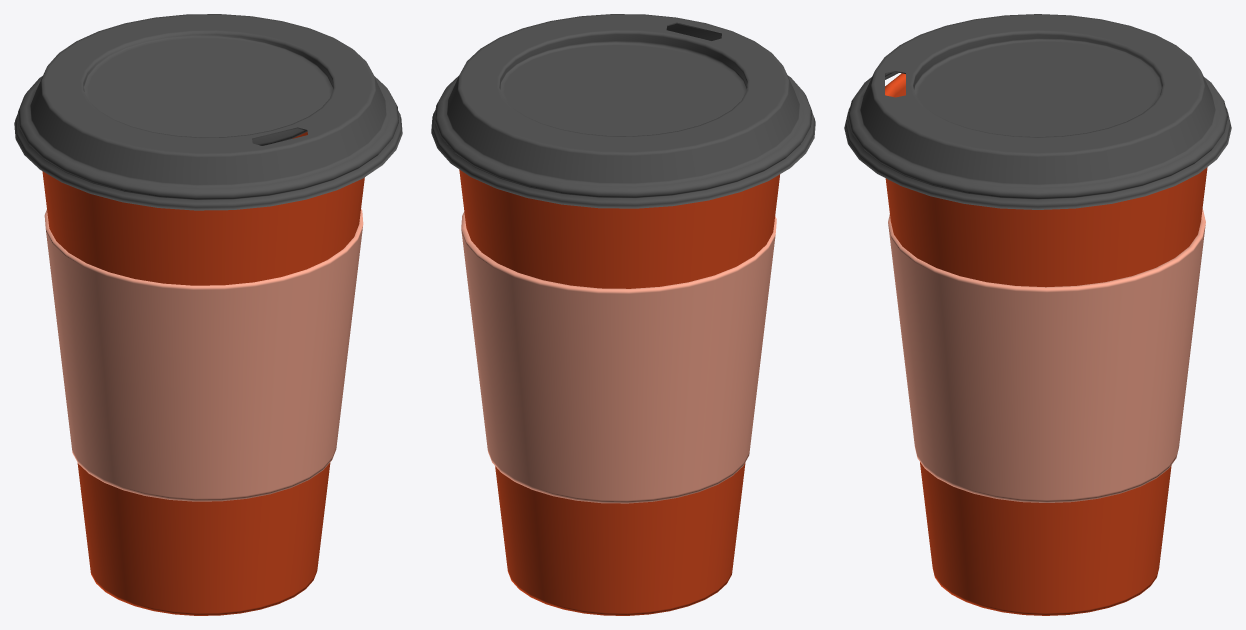
File: Bardak1.fbx
The picture shows the model from 3 angles, left to right: view 1: azimuth 30°, elevation 25°; view 2: azimuth 150°, elevation 25°; view 3: azimuth 270°, elevation 25°; orthographic projection.
Visible parts, largest first — view 1: Bardak1; view 2: Bardak1; view 3: Bardak1.
Part boxes in pixels (x1,y1,x2,y2): Bardak1: (14,14,402,615); Bardak1: (431,14,815,615); Bardak1: (844,14,1231,615).
Bounding box in the file's own units: 69.99 × 96.5 × 69.99.
